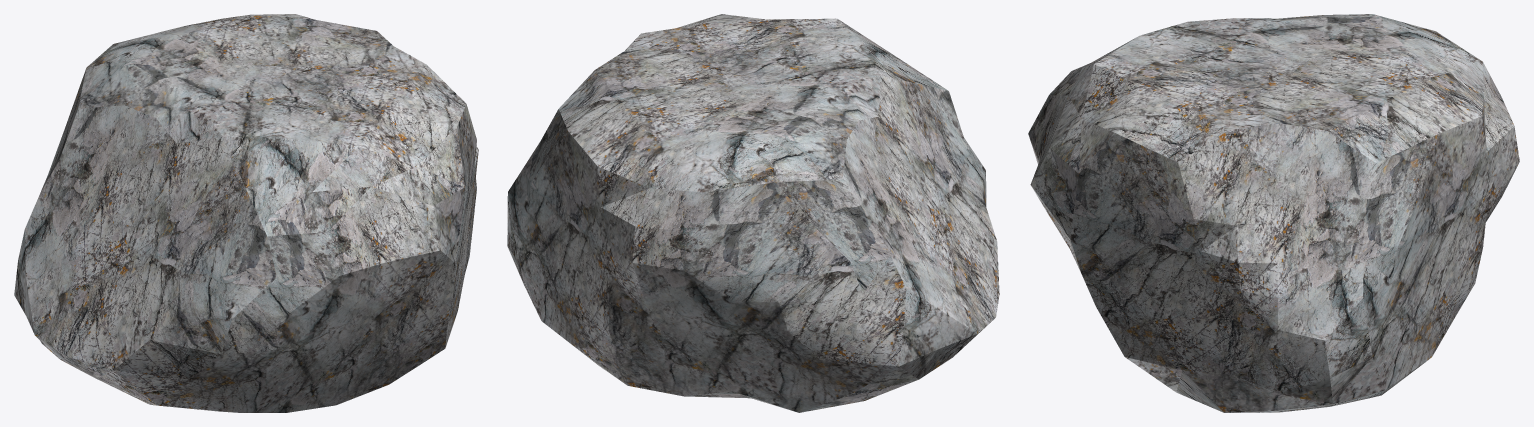
File: fractured_granite.gltf
3 views of the same model, side by side, from view 1: azimuth 30°, elevation 25°; view 2: azimuth 150°, elevation 25°; view 3: azimuth 270°, elevation 25° (orthographic). The views are drawn at different scales.
Visible parts, largest first — view 1: fractured_granite; view 2: fractured_granite; view 3: fractured_granite.
Boxes of the visible parts, x1=… form: fractured_granite: x1=14, y1=14, x2=478, y2=412; fractured_granite: x1=507, y1=14, x2=999, y2=412; fractured_granite: x1=1028, y1=14, x2=1519, y2=412.
Bounding box in the file's own units: 2.55 × 1.49 × 2.34.
Materials: 1 (1 with a texture image).
